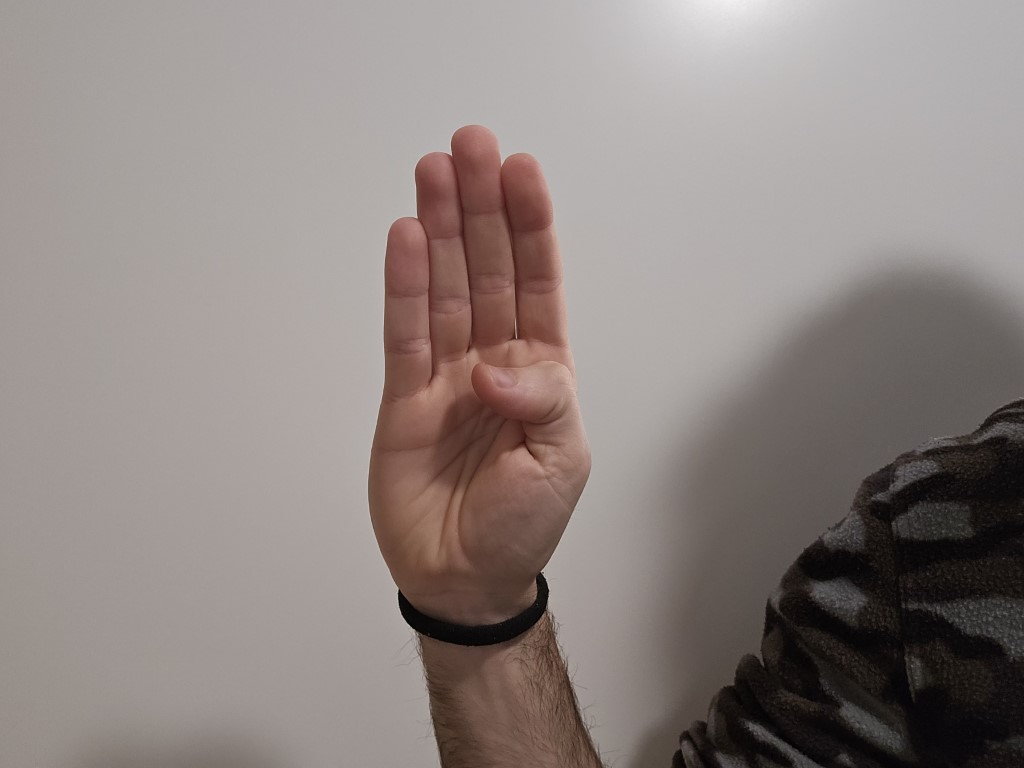b: (338, 115, 611, 596)
